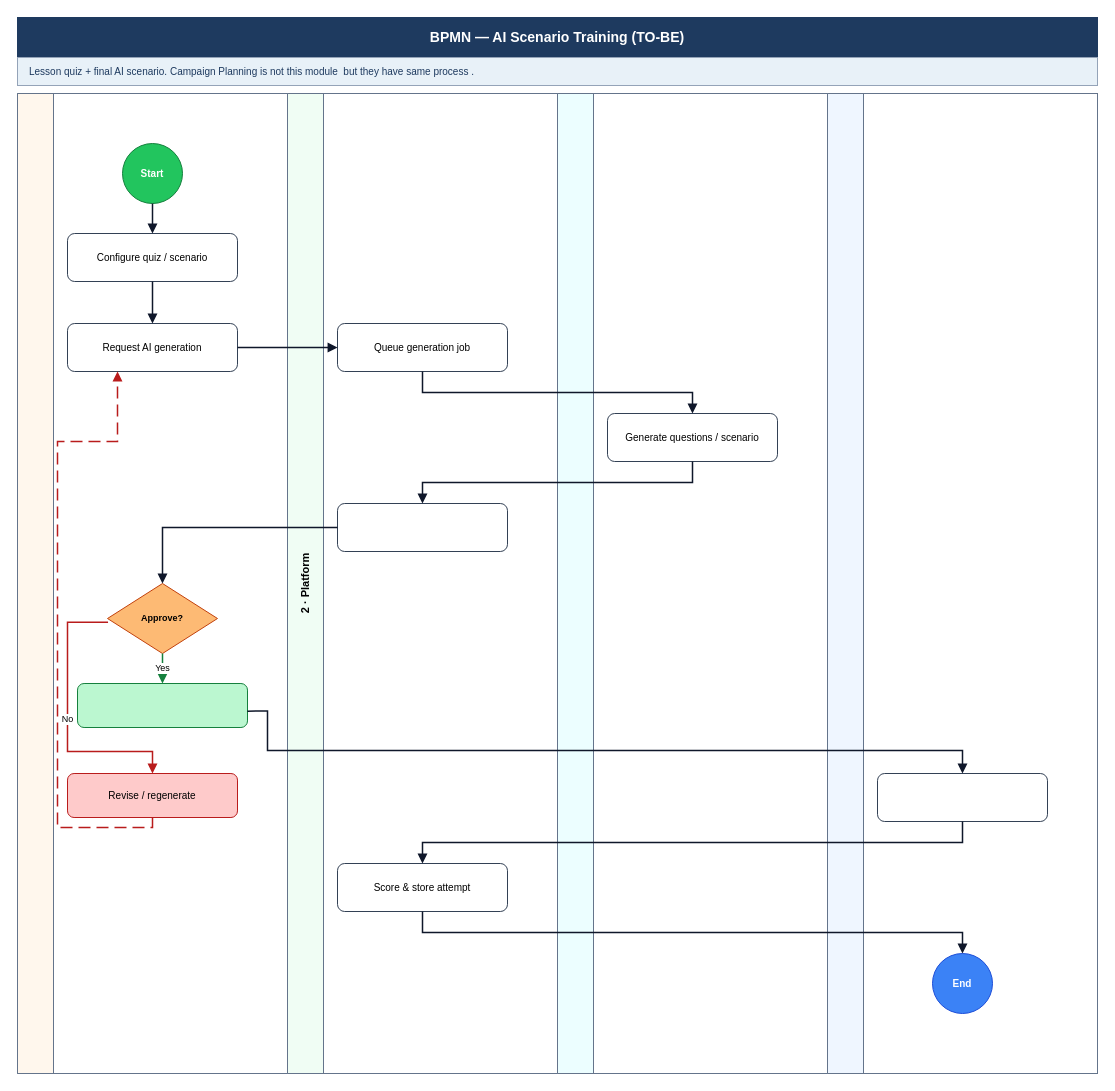
Image size: 1115x1091. Some labels were removed from this diagram. Here are the shapes that lost their labels. From the top down, the box of each, then its label:
(336, 502, 508, 552): Save draft version
(16, 92, 288, 1074): 1 · Lead Trainer / Admin
(556, 92, 828, 1074): 3 · Google Gemini
(826, 92, 1098, 1074): 4 · Participant
(76, 682, 248, 728): Publish version
(876, 772, 1048, 822): Take quiz / final scenario
